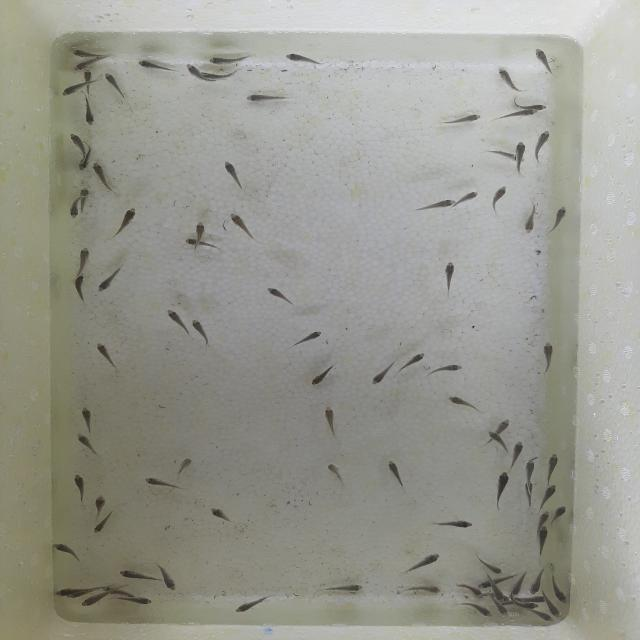fingerling: (93, 264, 133, 296), (227, 211, 259, 247), (216, 156, 249, 190), (232, 589, 272, 616), (262, 281, 296, 312), (435, 260, 464, 293), (405, 552, 444, 574), (494, 469, 513, 514), (544, 203, 569, 237), (531, 48, 558, 79), (70, 243, 96, 275), (324, 462, 350, 494), (104, 72, 137, 97), (382, 458, 407, 490), (68, 275, 92, 308), (53, 543, 87, 566), (444, 394, 483, 414), (76, 430, 102, 459), (156, 565, 181, 595), (142, 476, 182, 494), (497, 66, 524, 92), (93, 162, 115, 193), (536, 483, 562, 509), (281, 52, 326, 67), (395, 582, 443, 596), (162, 308, 185, 337), (115, 208, 137, 238), (309, 366, 342, 386), (539, 453, 561, 483), (295, 327, 326, 348), (534, 126, 552, 162), (430, 361, 470, 377), (520, 204, 542, 233), (417, 197, 459, 212), (402, 351, 432, 372), (541, 342, 559, 377), (136, 57, 172, 74), (472, 553, 501, 574), (86, 490, 110, 515), (94, 342, 117, 368), (69, 472, 88, 503), (115, 568, 157, 582), (78, 406, 100, 432), (452, 602, 492, 616), (320, 405, 338, 436), (486, 430, 505, 459), (532, 524, 548, 558), (492, 186, 511, 214), (205, 55, 258, 65), (176, 450, 196, 476), (506, 442, 526, 468), (208, 505, 238, 522), (371, 364, 394, 386), (192, 319, 210, 347), (550, 576, 568, 604), (323, 581, 368, 592), (449, 112, 487, 125), (77, 592, 103, 611), (81, 97, 98, 126), (481, 574, 516, 588), (526, 570, 544, 596), (184, 238, 217, 252), (486, 150, 524, 162), (88, 521, 114, 538), (509, 572, 528, 595), (522, 479, 536, 510), (66, 132, 84, 156), (516, 98, 549, 111), (425, 520, 478, 528), (183, 64, 204, 84), (116, 597, 158, 607), (203, 68, 241, 79), (503, 109, 540, 120), (245, 94, 290, 103), (190, 220, 208, 242), (513, 144, 527, 172), (460, 190, 484, 206), (549, 506, 568, 526), (455, 583, 484, 596), (80, 186, 94, 212), (494, 415, 516, 431), (520, 459, 536, 481), (65, 59, 94, 71), (67, 48, 100, 58), (67, 199, 82, 219), (535, 510, 549, 530), (59, 84, 82, 96), (54, 588, 88, 596), (78, 145, 88, 172), (82, 71, 94, 92), (548, 599, 560, 618), (535, 611, 553, 622), (494, 583, 504, 602), (515, 601, 536, 609), (496, 605, 508, 618)
